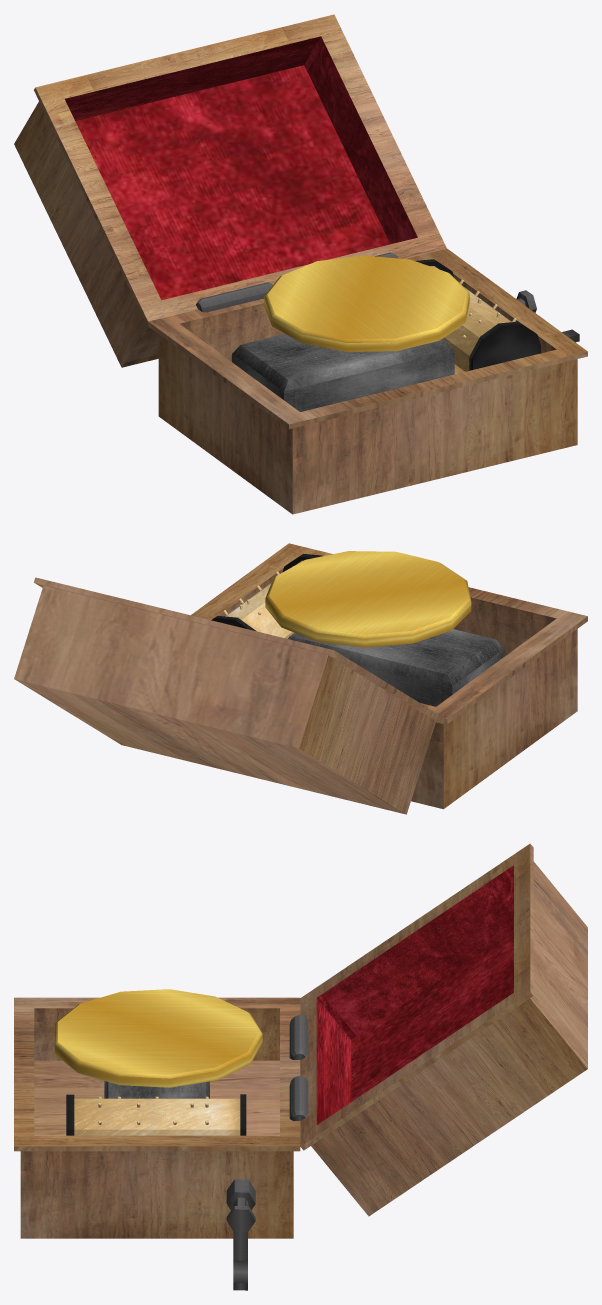
Rendered from MusicBox.fbx.
3 views of the same model, one above another, from view 1: azimuth 30°, elevation 25°; view 2: azimuth 150°, elevation 25°; view 3: azimuth 270°, elevation 25° (orthographic).
Parts seen in each view (by area): view 1: cover, box, disk, inside, rubber, rol, hinge; view 2: cover, box, disk, inside, rol, rubber; view 3: cover, box, disk, rol, crank, inside, hinge, hinge2, rubber, pivot.
Part boxes in pixels (<box>): cover: <box>14,14,446,367</box>; box: <box>148,248,587,514</box>; disk: <box>264,255,469,351</box>; inside: <box>232,334,454,411</box>; rubber: <box>415,259,540,370</box>; rol: <box>430,266,511,373</box>; hinge: <box>196,282,272,312</box>; cover: <box>14,577,446,814</box>; box: <box>191,543,587,809</box>; disk: <box>265,551,471,647</box>; inside: <box>288,629,504,706</box>; rol: <box>225,560,302,638</box>; rubber: <box>211,554,322,631</box>; cover: <box>300,843,587,1216</box>; box: <box>14,997,300,1238</box>; disk: <box>54,989,262,1087</box>; rol: <box>74,1098,240,1135</box>; crank: <box>226,1197,255,1290</box>; inside: <box>104,1081,209,1098</box>; hinge: <box>289,1015,308,1060</box>; hinge2: <box>289,1076,308,1120</box>; rubber: <box>66,1094,246,1135</box>; pivot: <box>226,1179,255,1210</box>.
Bounding box in the file's own units: 4.43 × 2.61 × 5.43.
Materials: 7 (7 with a texture image).
